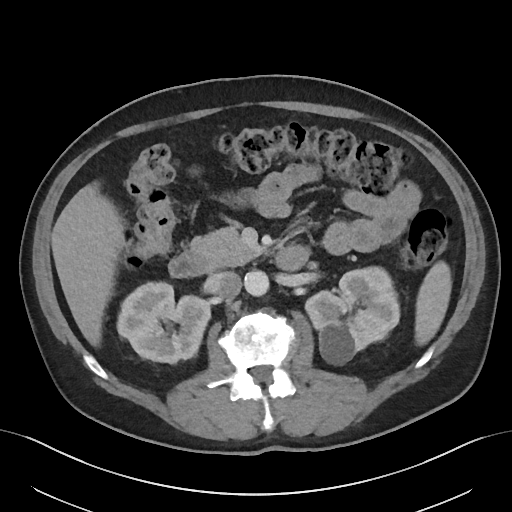Lesion: (315, 321, 359, 370)
